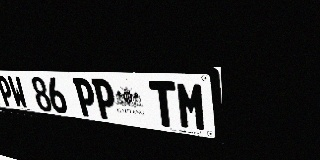6: (44, 77, 69, 114)
8: (30, 76, 53, 112)
M: (175, 81, 207, 132)
P: (91, 78, 118, 121), (72, 78, 98, 118), (0, 75, 16, 108)
T: (148, 80, 179, 129)
W: (6, 75, 29, 109)
